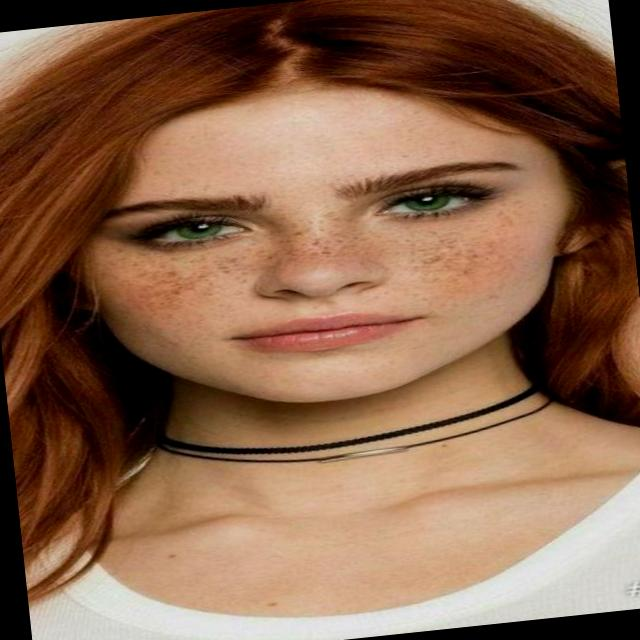freckle: (109, 206, 532, 325)
